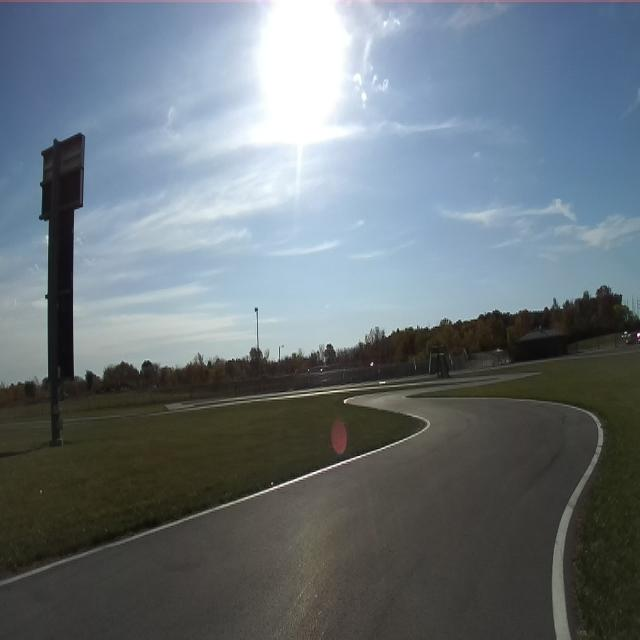white-line: (0, 412, 430, 586), (430, 397, 604, 639), (344, 396, 363, 403)
